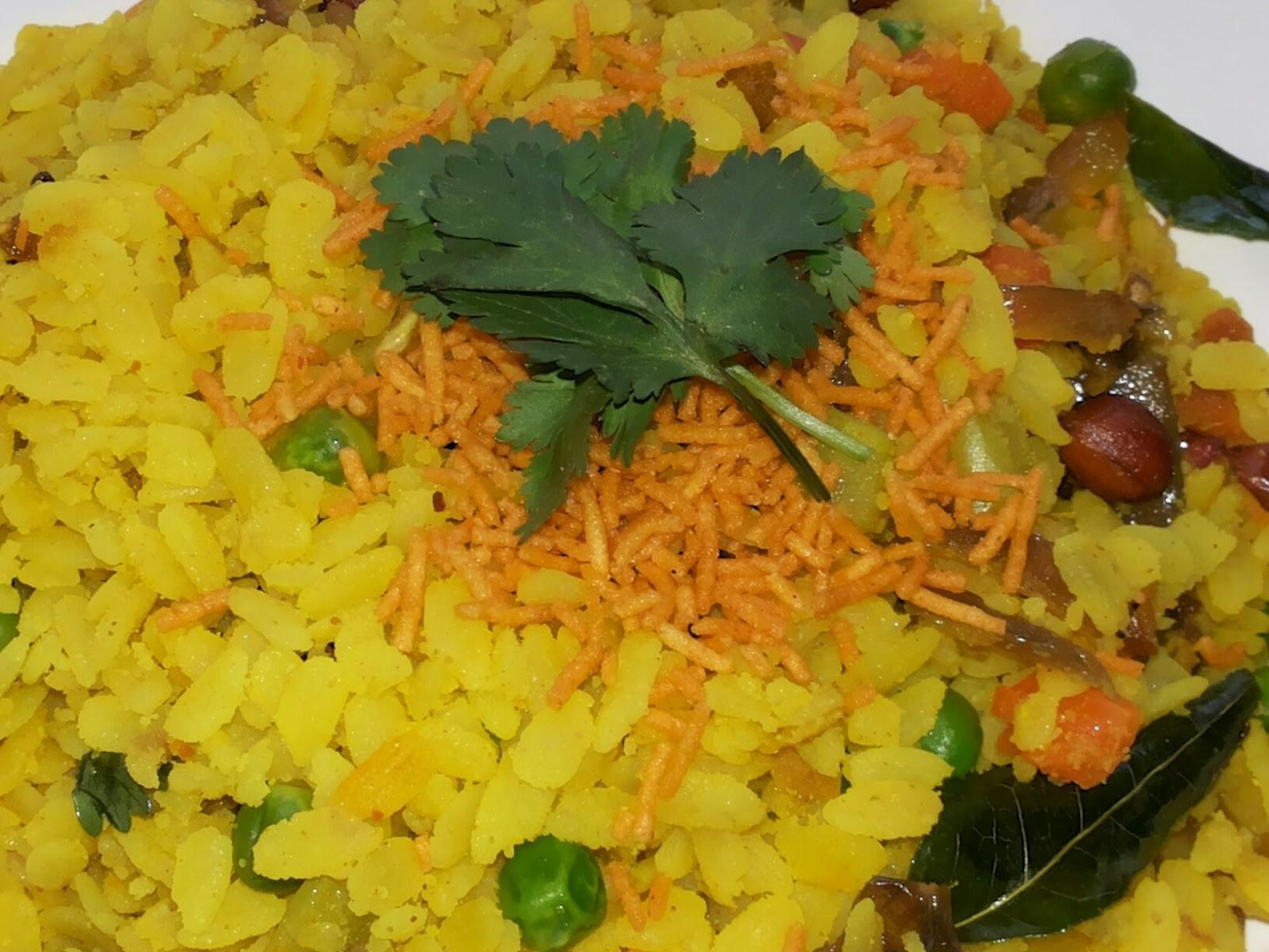Poha: (9, 0, 1269, 952)
